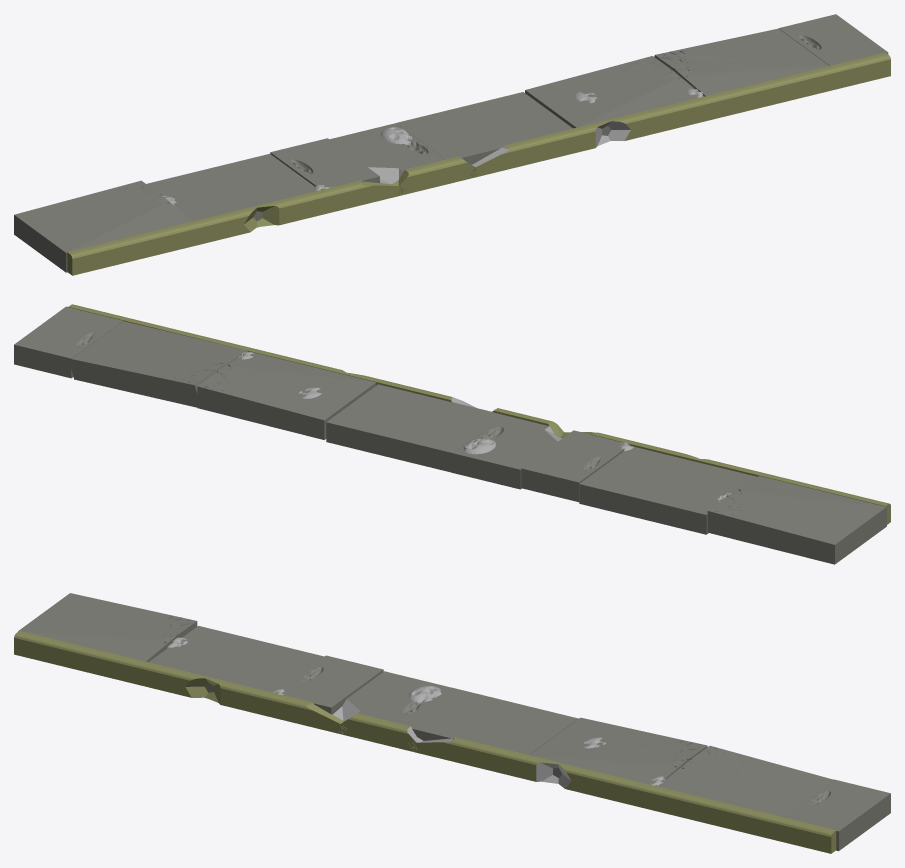
File: acera recta.fbx
3 views of the same model, one above another, from view 1: azimuth 30°, elevation 25°; view 2: azimuth 150°, elevation 25°; view 3: azimuth 330°, elevation 25° (orthographic).
Parts seen in each view (by area): view 1: polySurface2; view 2: polySurface2; view 3: polySurface2.
Boxes of the visible parts, <box> form: polySurface2: <box>14,14,890,275</box>; polySurface2: <box>14,304,890,564</box>; polySurface2: <box>14,593,890,853</box>.
Size of the model in its own units: 22.18 by 0.6587 by 2.68.
